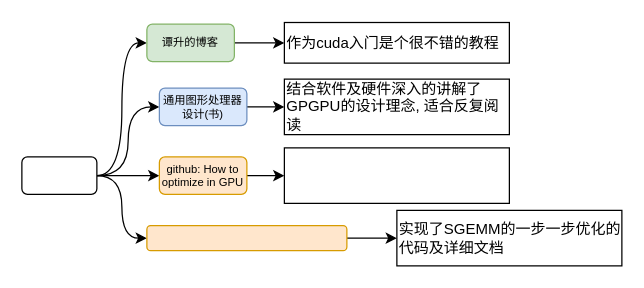
This 644x288 diagram has some shape labels left out. Here are the shapes that lost their labels. From the top down, the centre of each, then its label:
pixel 59 175: CUDA
pixel 396 175: 实现了各种类型kernel的优化代码, 提供了reduce一步一步优化的详细文档
pixel 246 237: github: NVIDIA_SGEMM_PRACTICE
